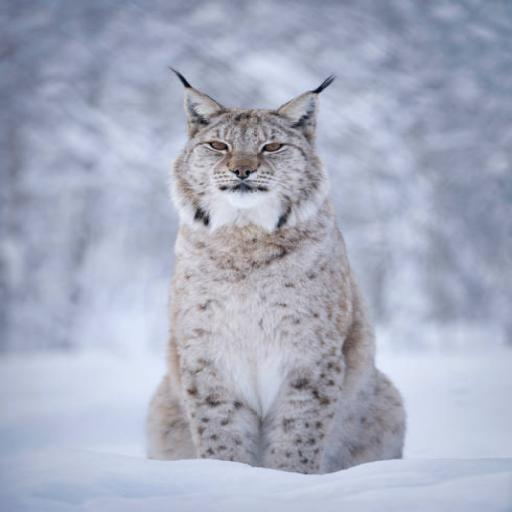lynx: (148, 70, 404, 473)
